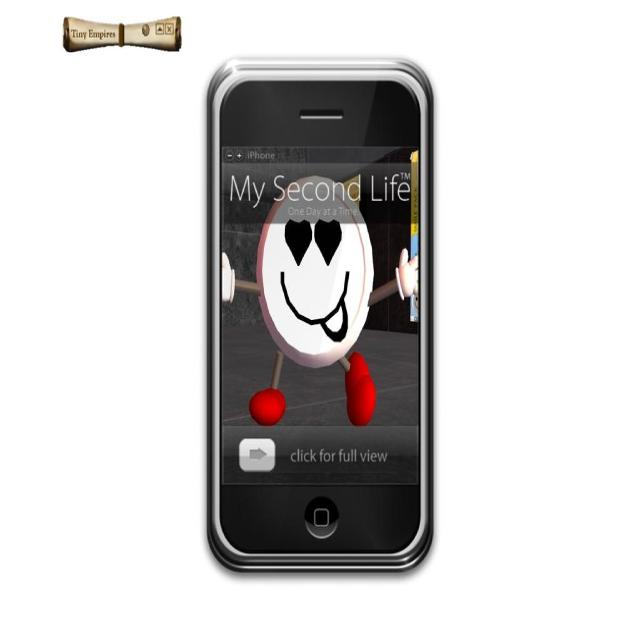mobile: (206, 59, 434, 573)
